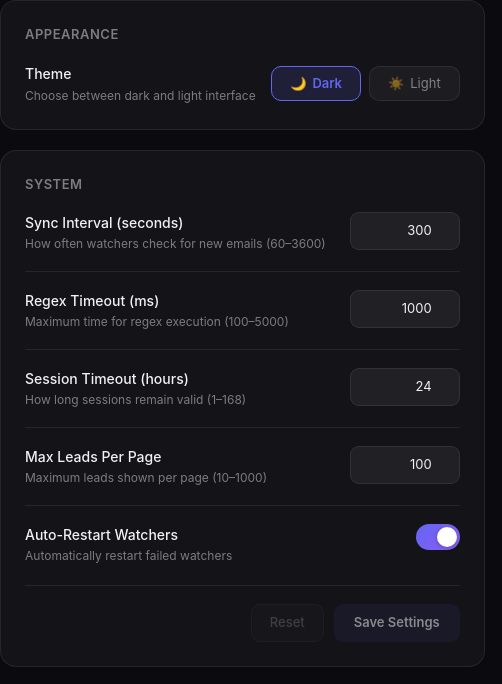
Scenario: SettingsPage › enables save button when value changes
Replace the text in the number field with test id "input-sync_interval_seconds" with "600" at coordinates (405, 231), box [350,212,460,250]
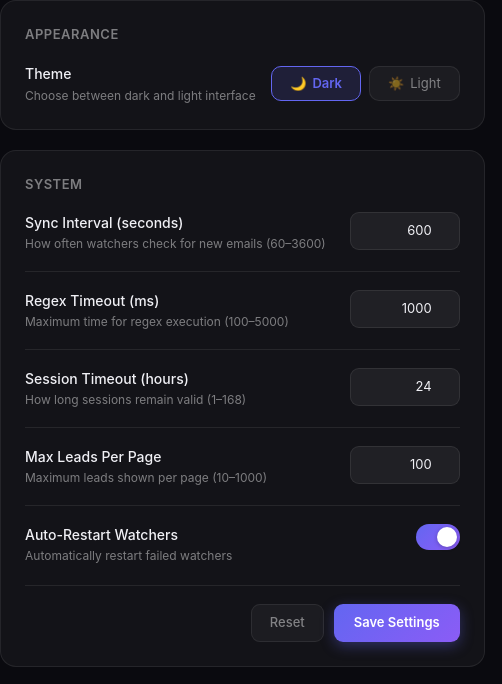
expect the button with test id "save-btn" is enabled: met, box [334,604,460,642]
